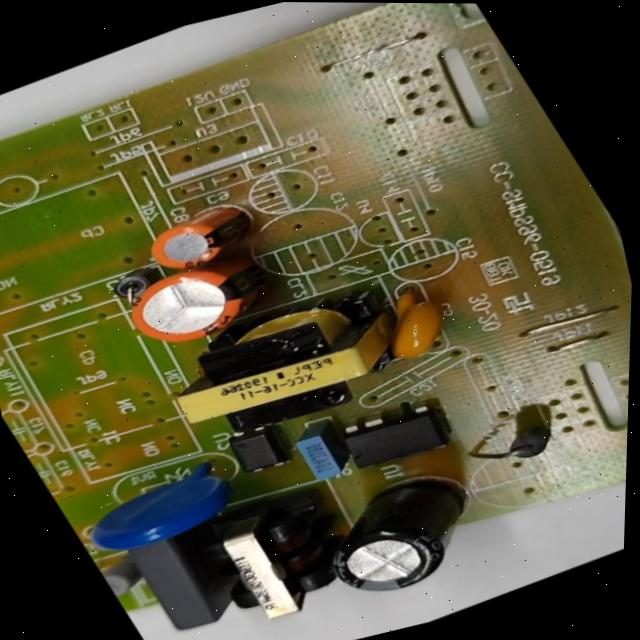Cap1: (110, 245, 279, 363)
Cap2: (136, 195, 266, 281)
Cap3: (297, 458, 505, 615)
MOSFET: (334, 396, 461, 483)
Mov: (69, 453, 252, 567)
Resistor: (97, 556, 142, 596)
Transformer: (141, 273, 425, 457), (194, 503, 349, 638)
